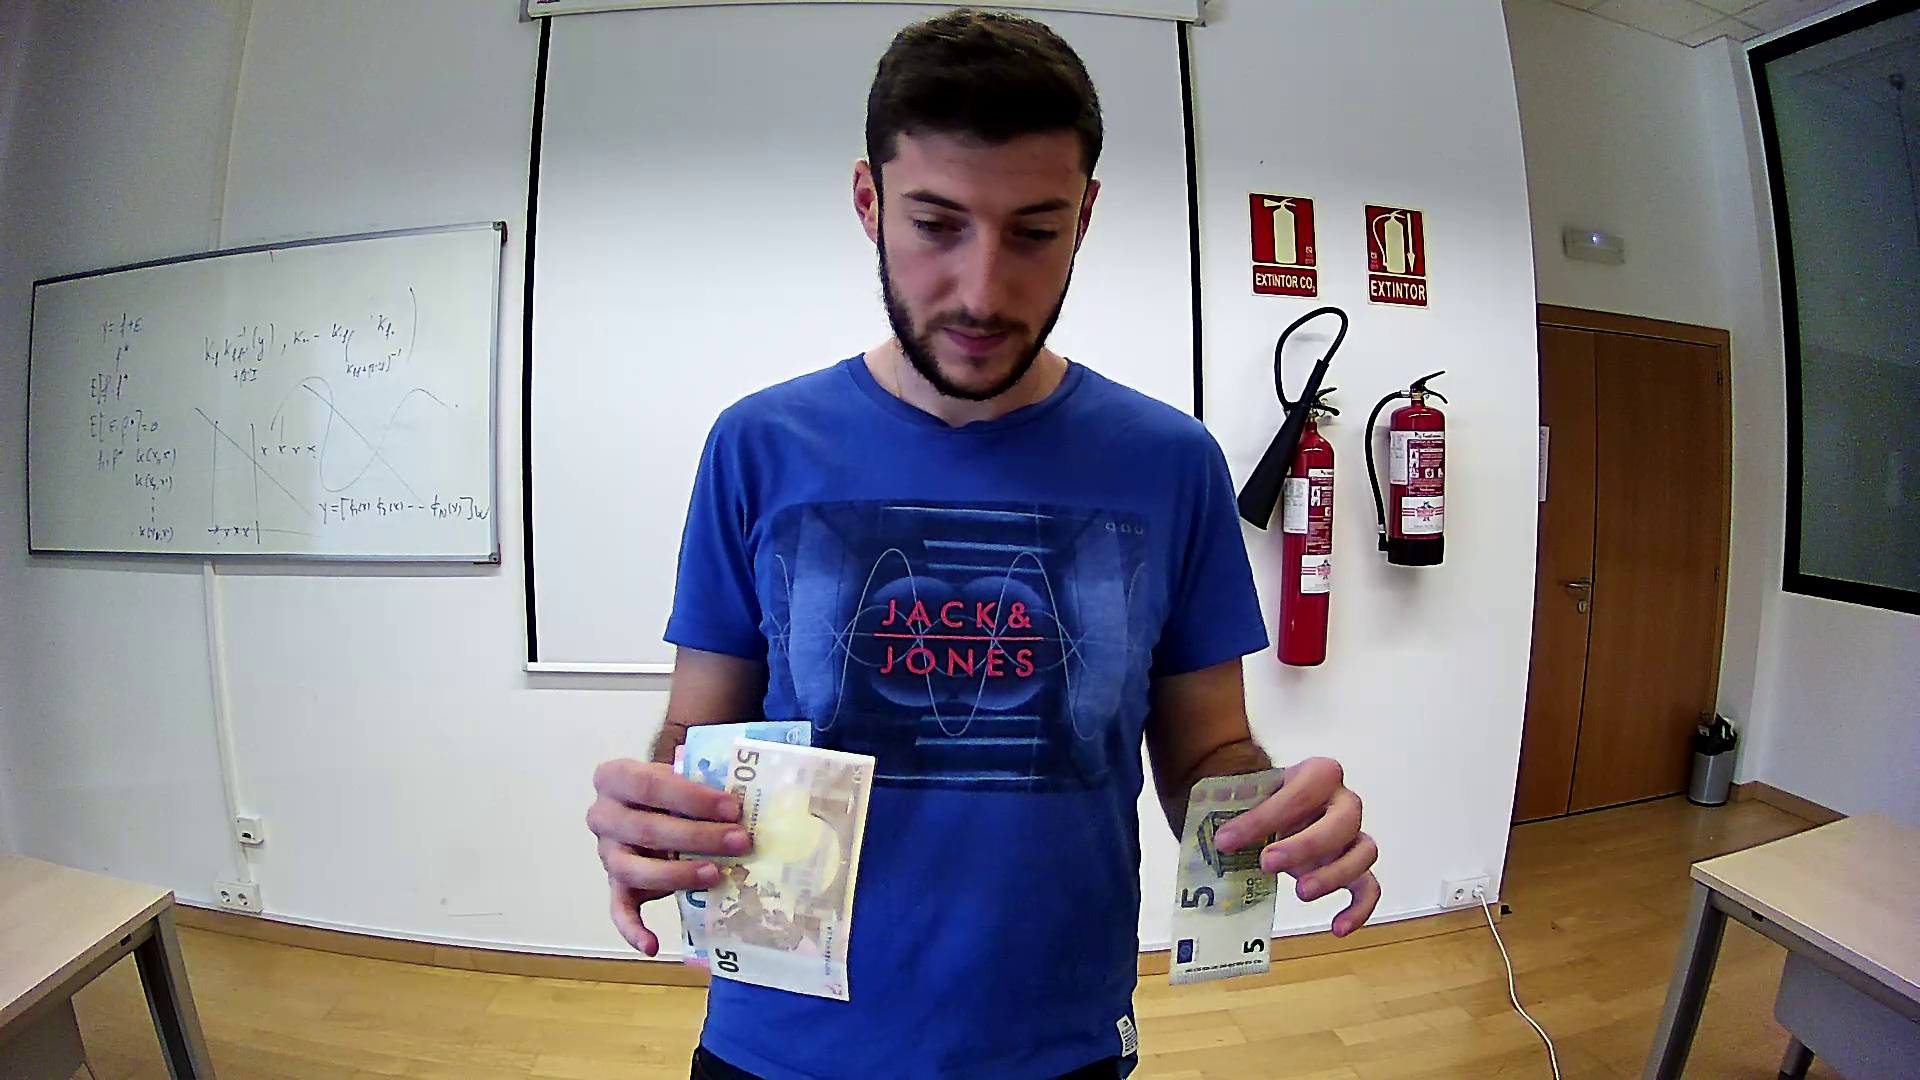billete: (707, 736, 880, 1004), (666, 720, 814, 969), (1168, 767, 1286, 986)
